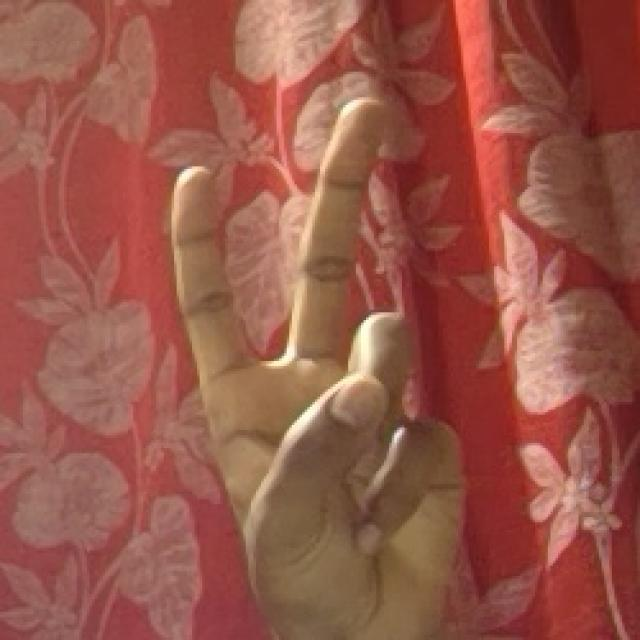Numeric-2: (168, 86, 464, 619)
